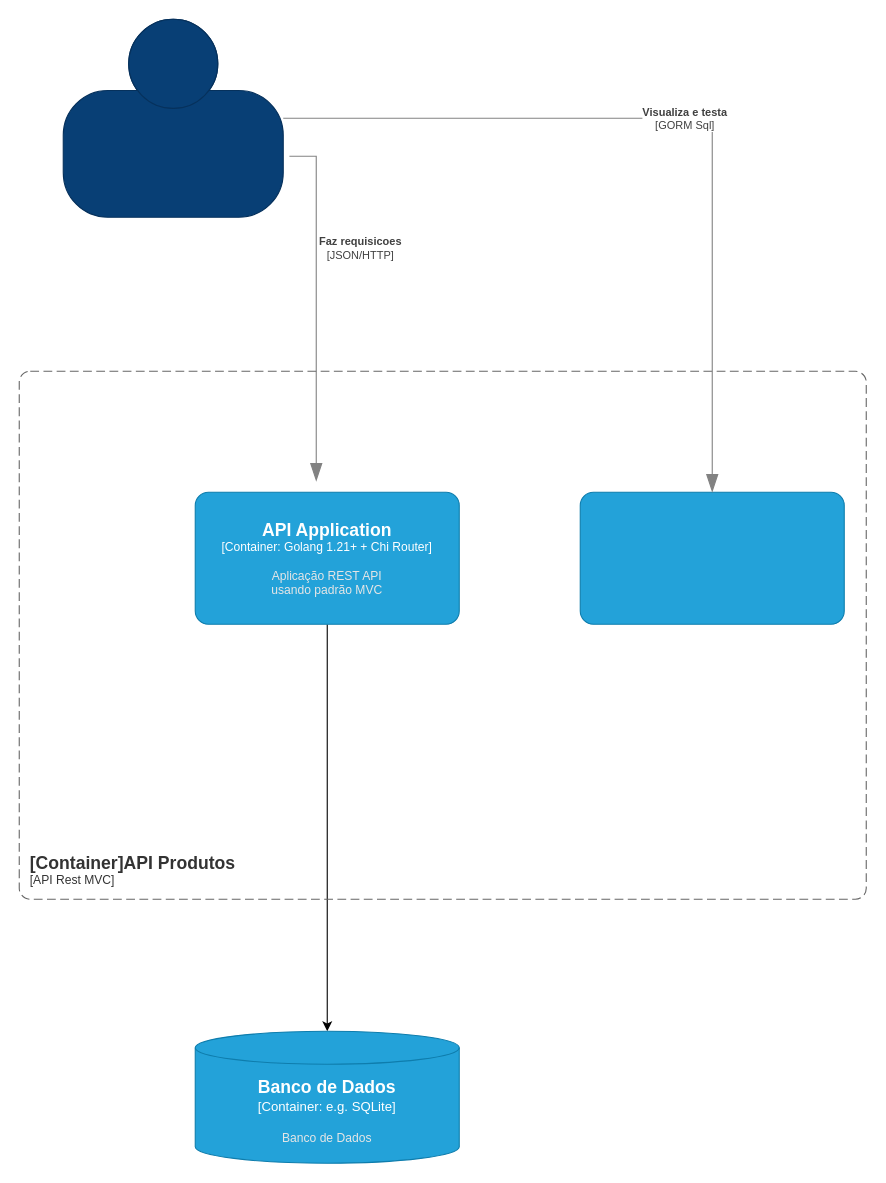
This 886x1183 diagram has some shape labels left out. Here are the shapes that lost their labels. From the top down, the centre of each, then its label:
the point at 172,117: Usuario [Person] Desenvolvedor ou aplicação cliente
the point at 711,557: Swagger UI [Container: HTTP Static] Documentação interativa da API
